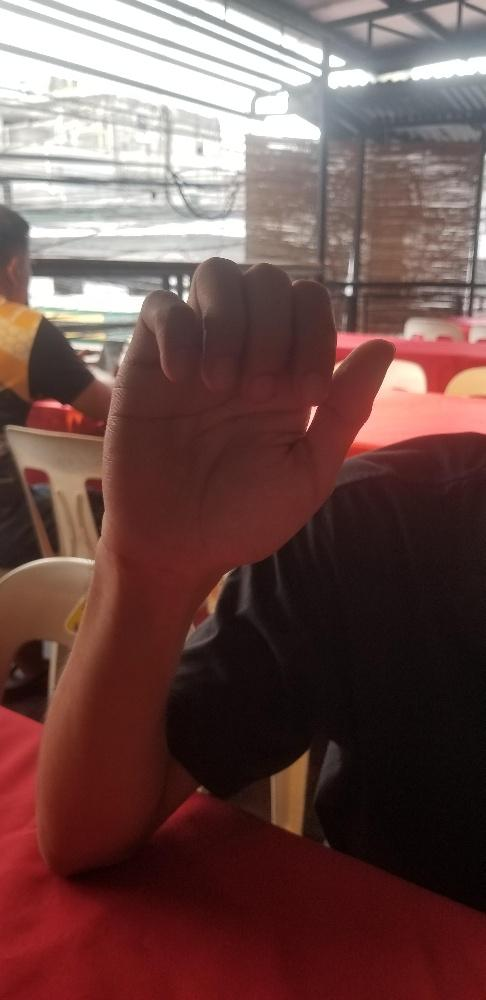e: (99, 252, 399, 584)
